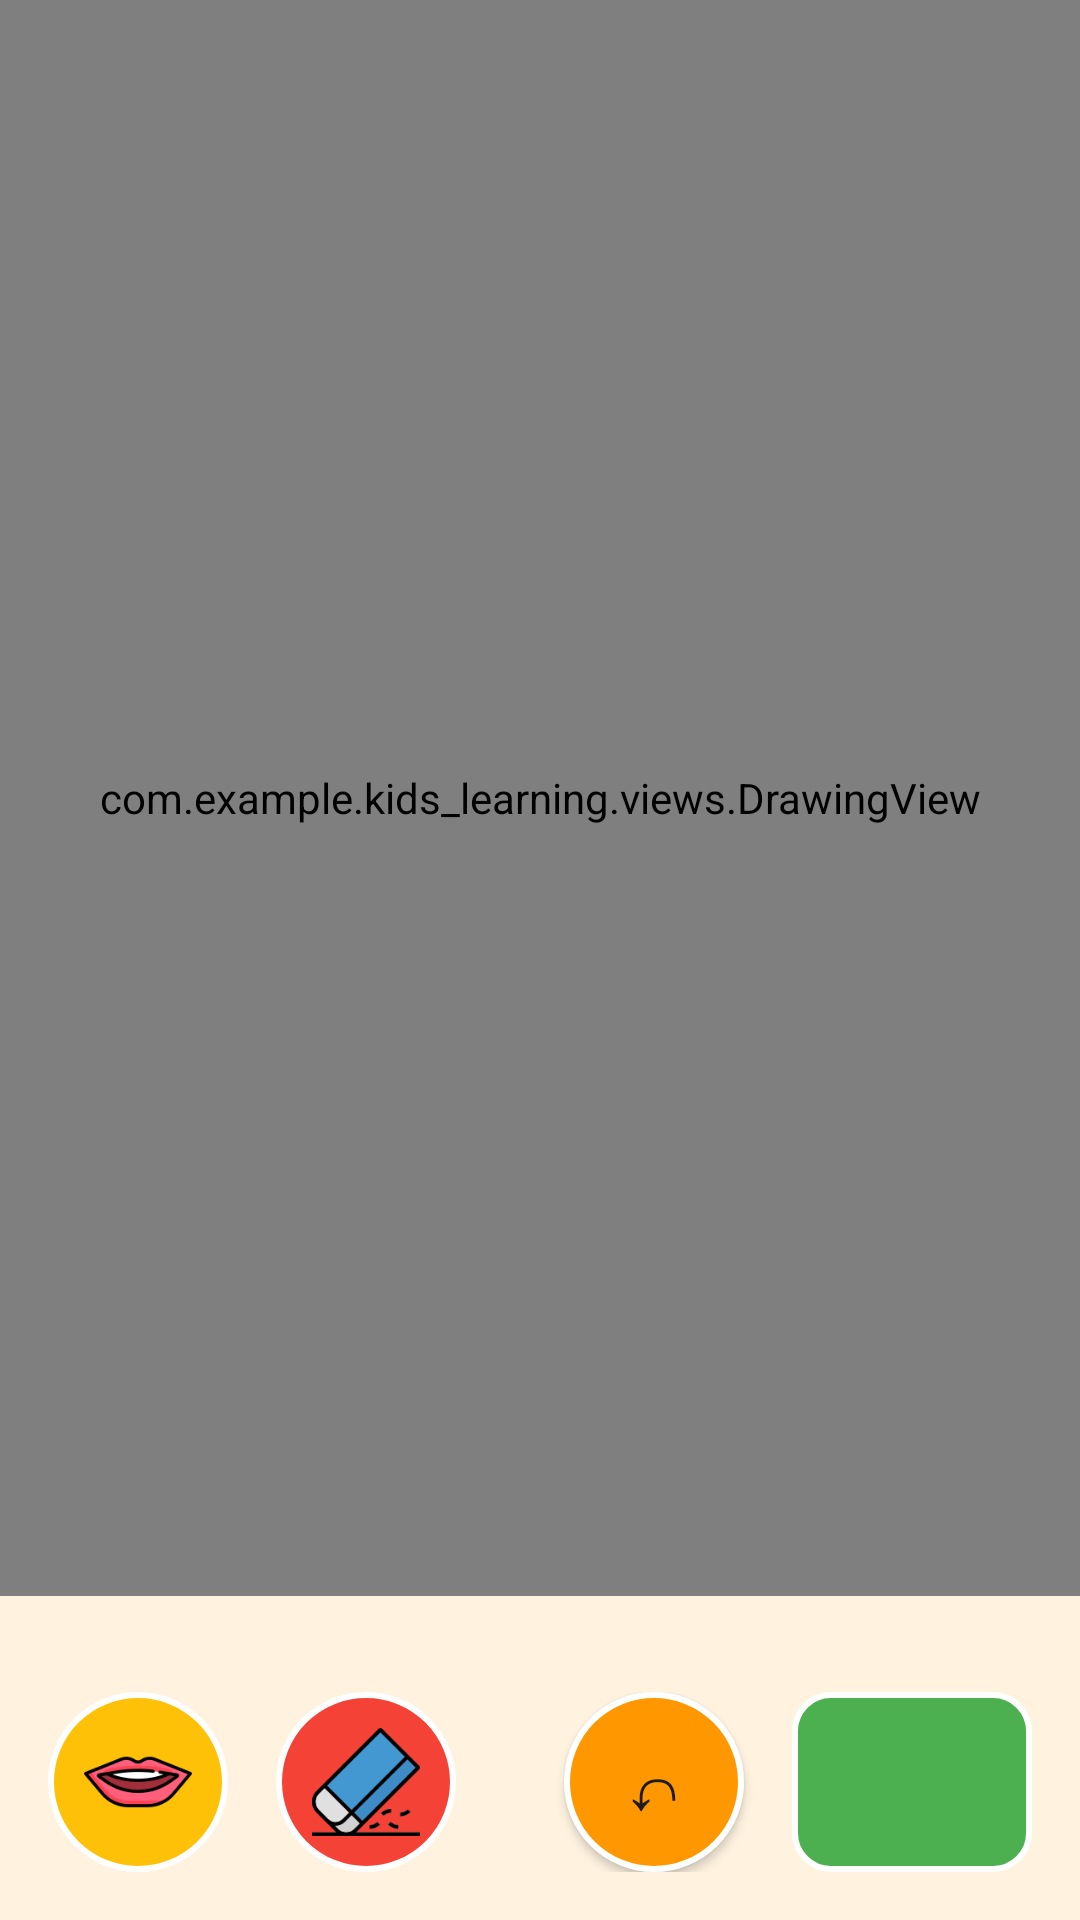

Icons on this 1080 x 1920 Android screen, each with its box as (x1, y1, x2, y2):
eraser: (276, 1692, 456, 1872)
mouth: (48, 1692, 228, 1872)
